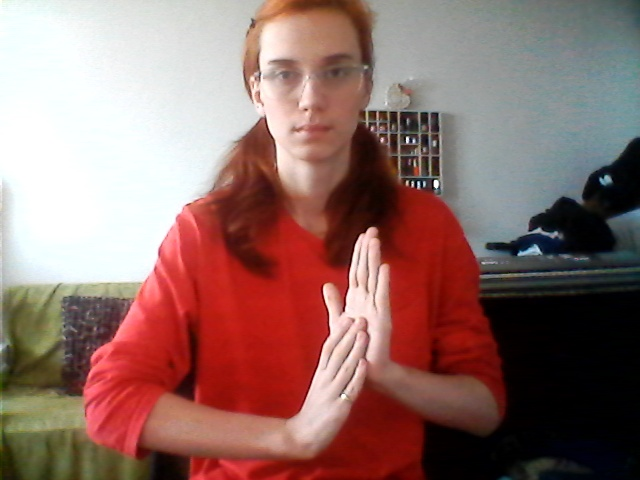m: (280, 222, 415, 462)
